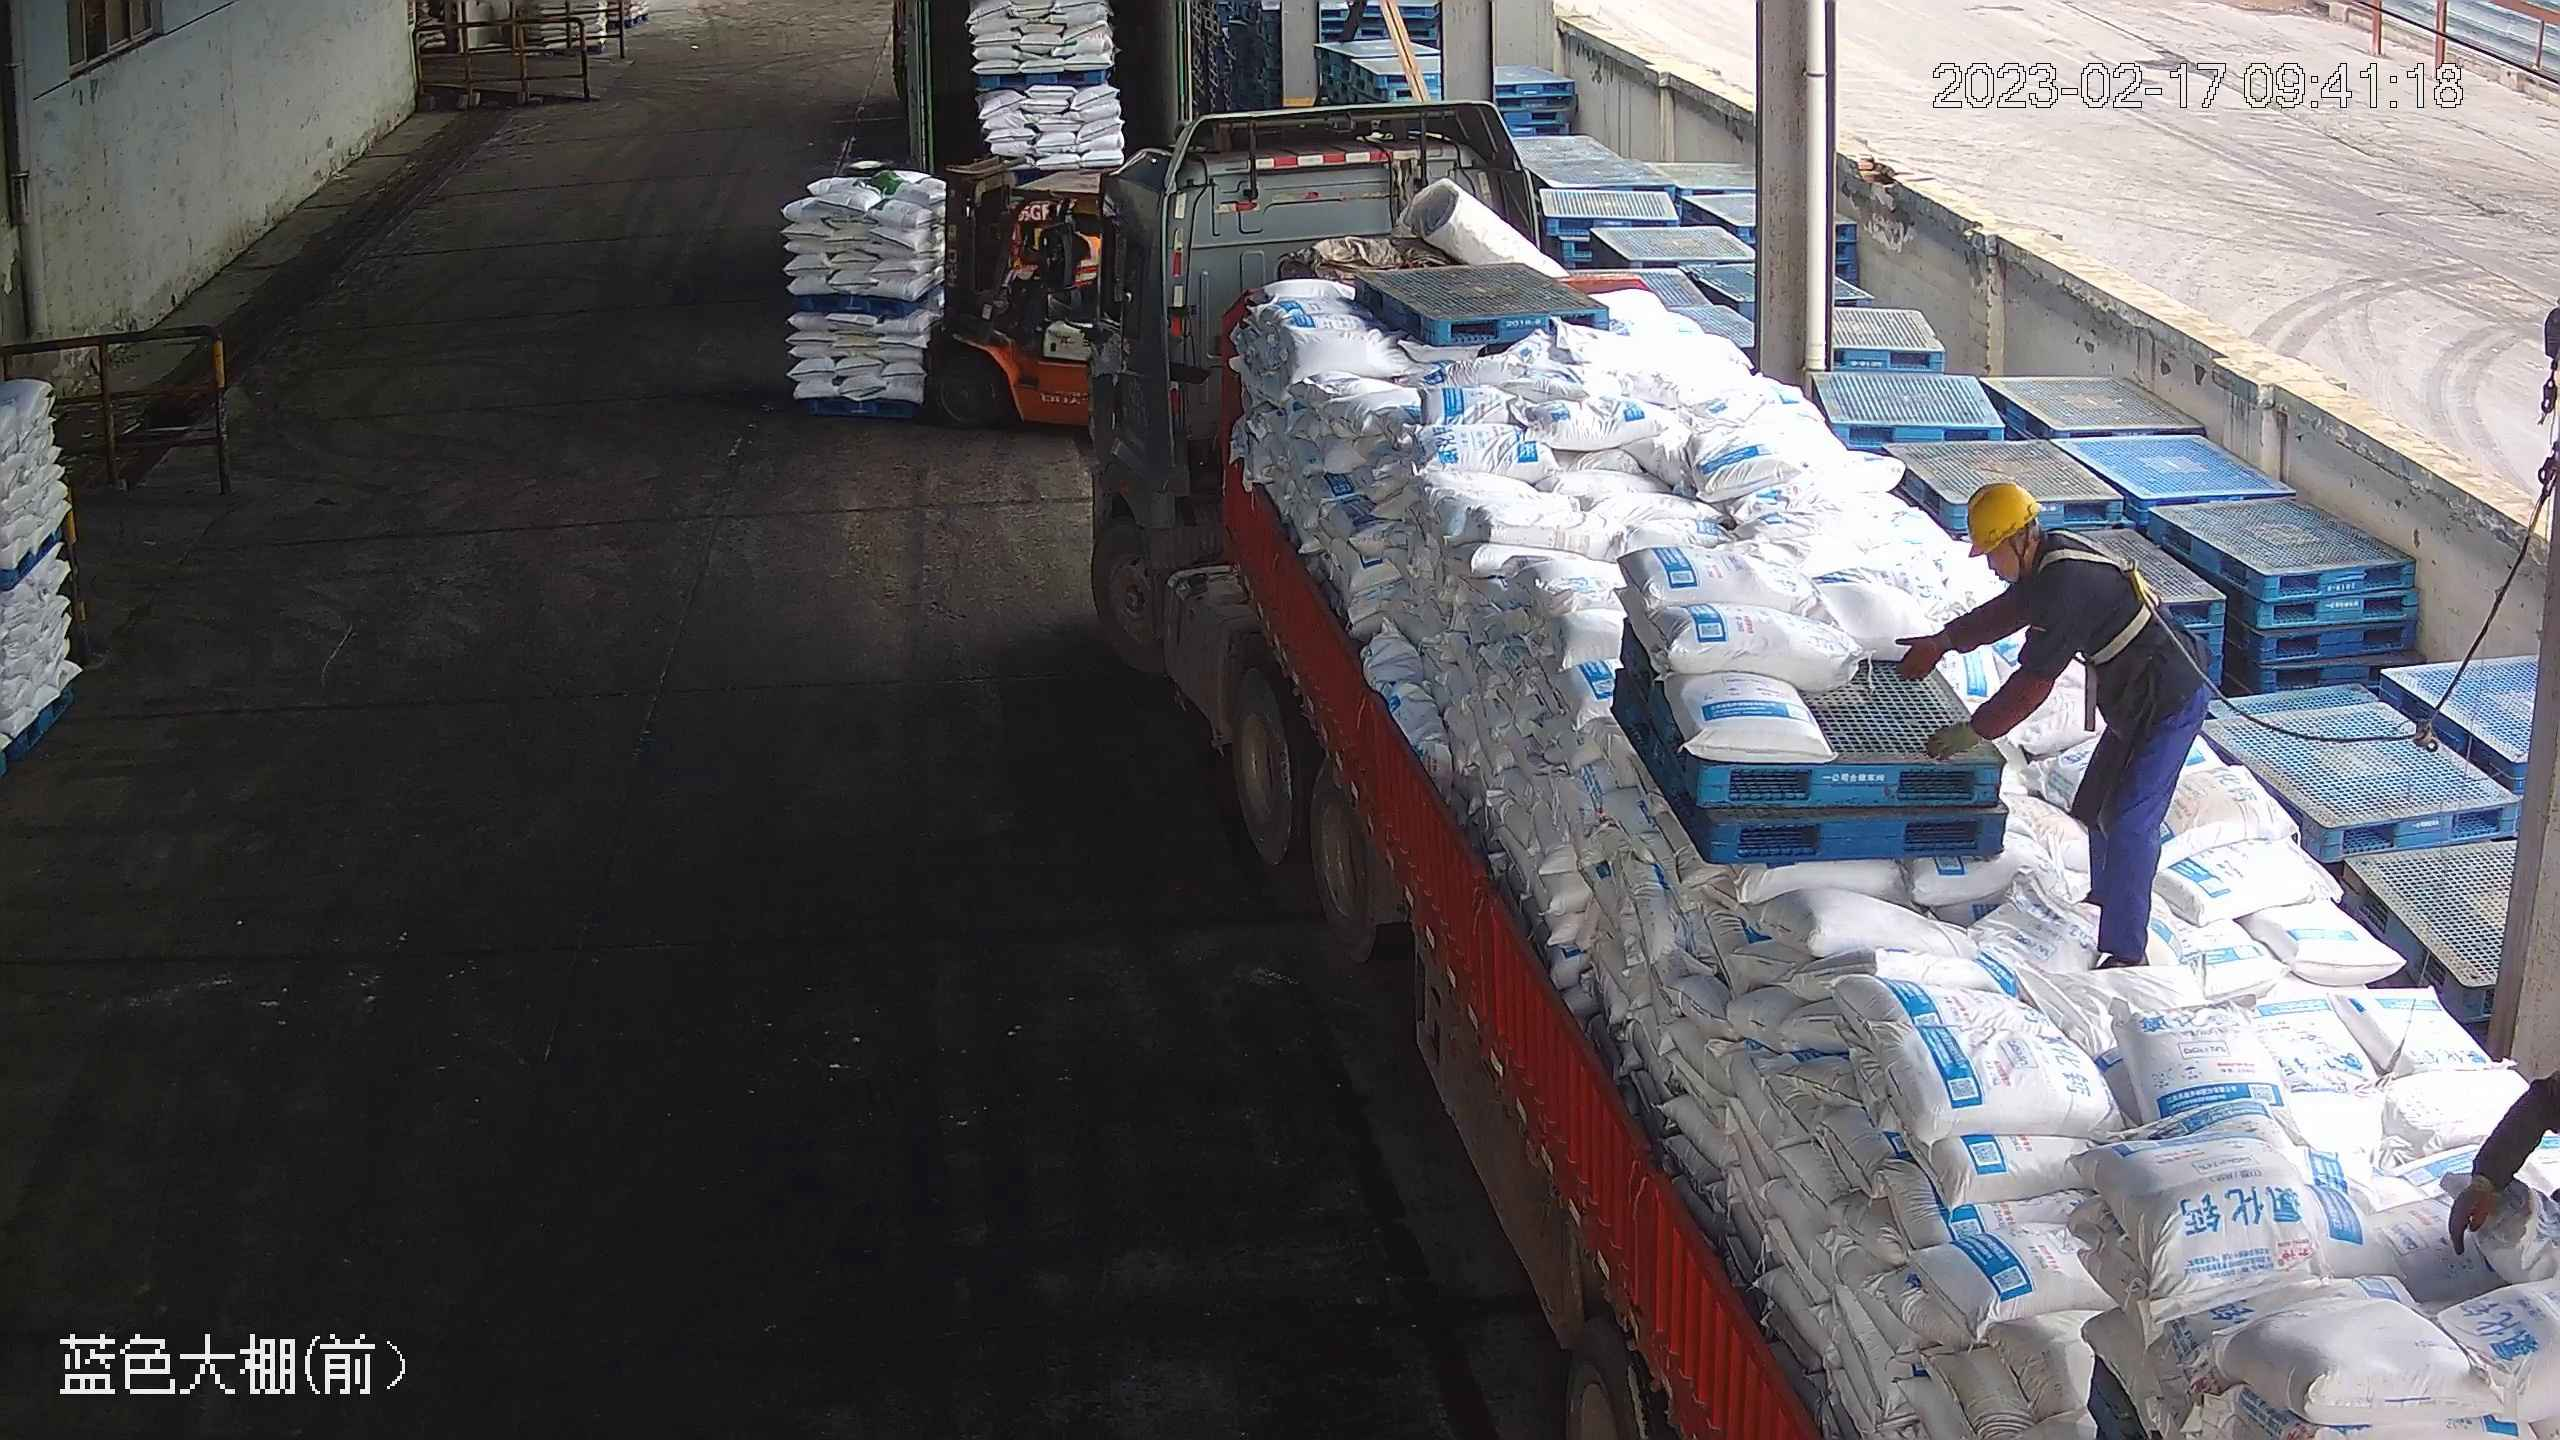belt: (2043, 535, 2167, 664)
head: (1960, 480, 2112, 621)
helmet: (1961, 478, 2044, 558)
people: (1894, 476, 2210, 972)
truck: (1037, 95, 2556, 1439), (888, 1, 1193, 175)
